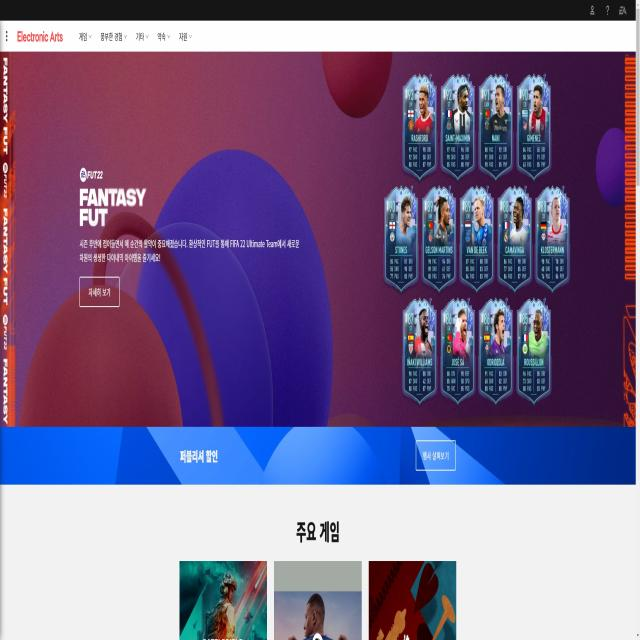menu-bar: (586, 2, 628, 18)
tab-bar: (14, 22, 194, 47)
